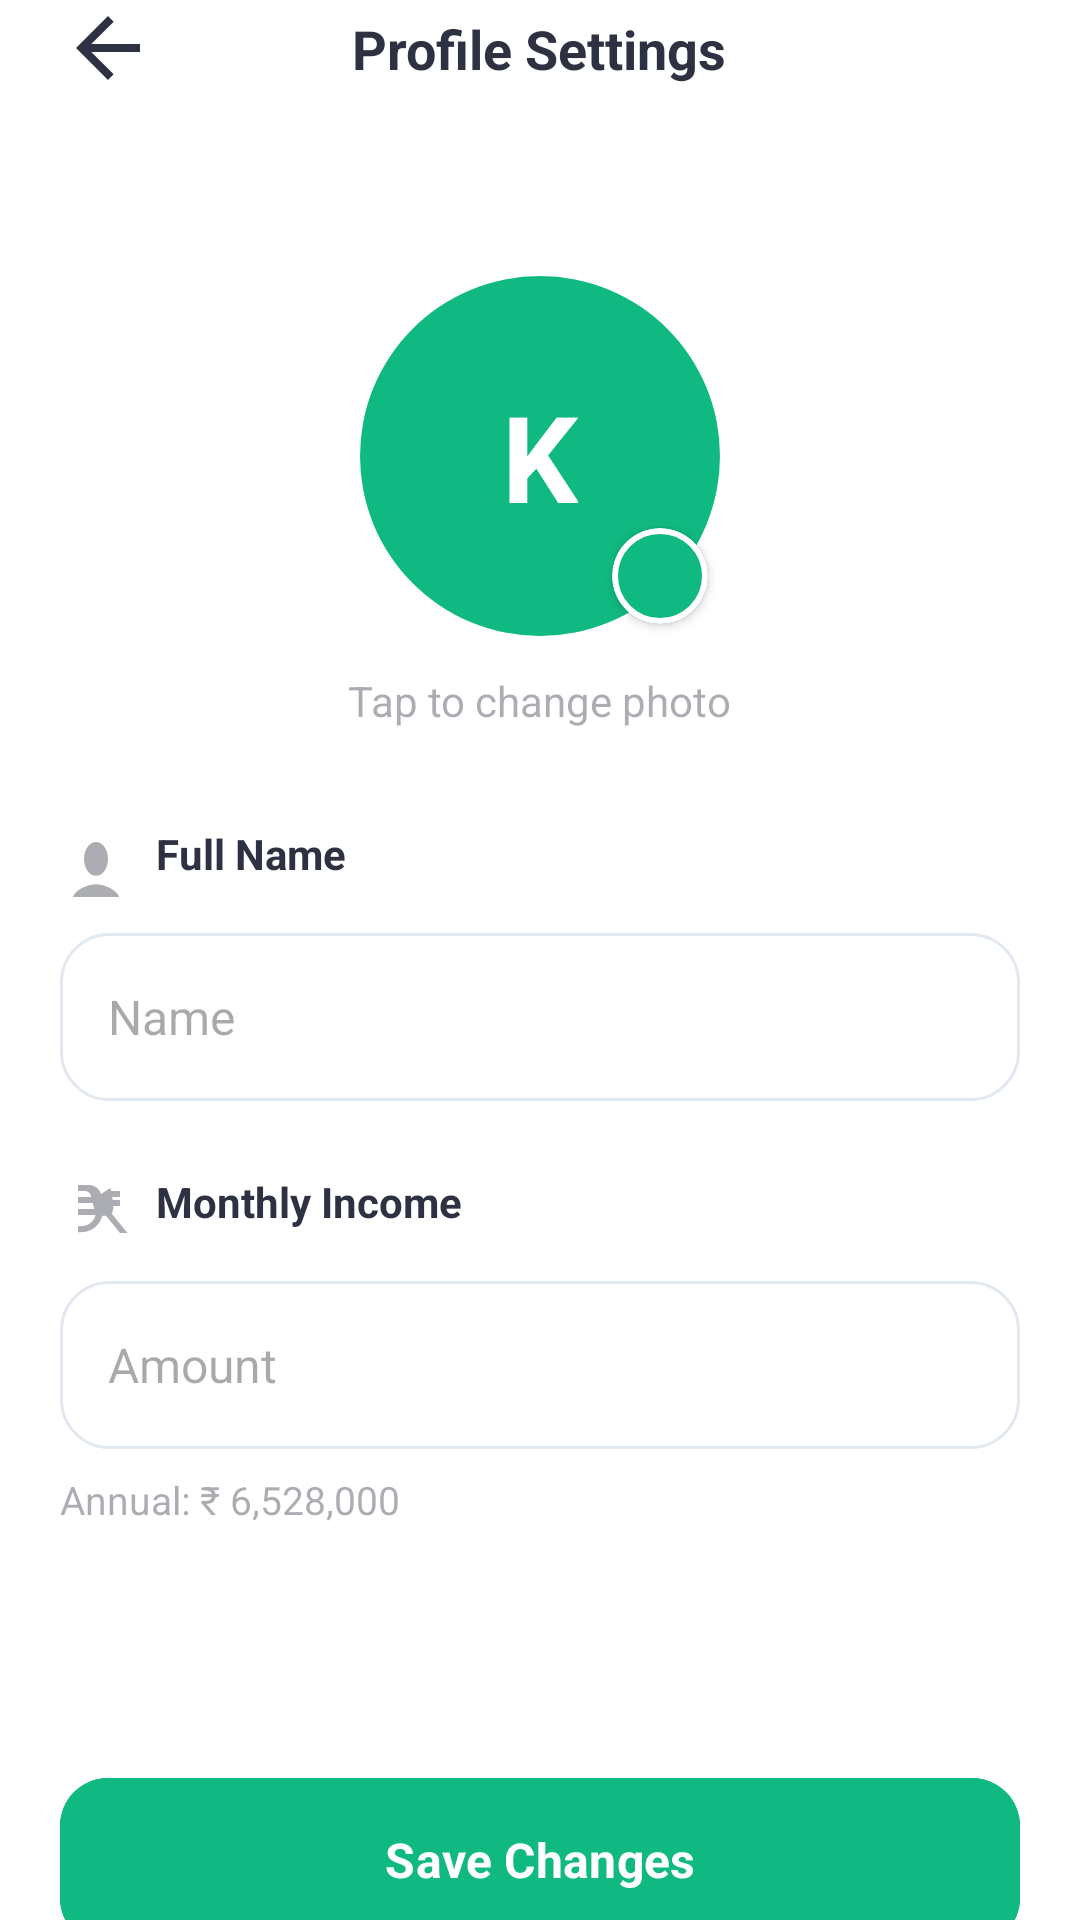

Screen size 1080×1920. Icon name, then its box in pixels as [x1=x1, y1=y1, x2=x2, y2=y2]:
back: [x1=76, y1=16, x2=140, y2=80]
